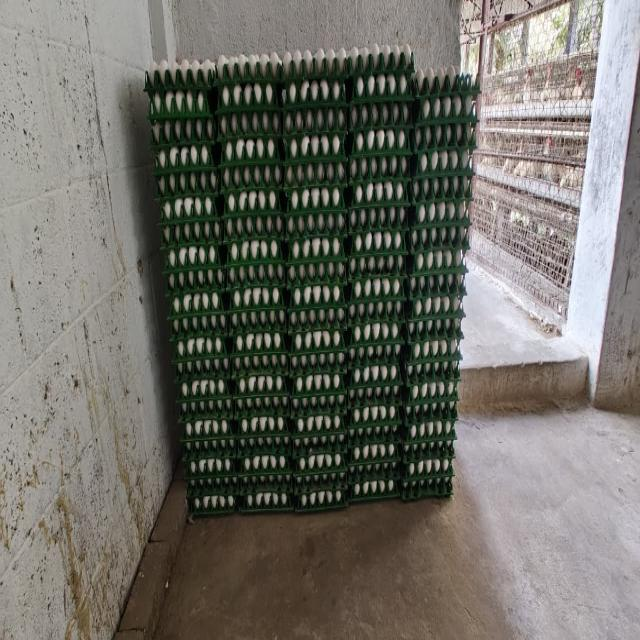egg_tray: (146, 62, 236, 512), (402, 67, 476, 497), (402, 121, 474, 498), (286, 59, 346, 510), (218, 54, 284, 415), (408, 67, 477, 357), (288, 174, 347, 510), (348, 194, 408, 500), (349, 205, 407, 500), (146, 60, 220, 289), (230, 240, 292, 510), (161, 196, 230, 430), (350, 210, 404, 499), (288, 188, 346, 455), (290, 235, 346, 510), (349, 129, 411, 365), (349, 207, 406, 461), (229, 283, 292, 509), (402, 273, 464, 498), (410, 67, 477, 275), (163, 209, 230, 413), (226, 191, 287, 415), (287, 187, 346, 416), (228, 239, 290, 455), (403, 274, 463, 497), (230, 284, 290, 507), (290, 279, 346, 509), (290, 278, 346, 508), (163, 221, 230, 413), (290, 283, 346, 509), (216, 54, 283, 240), (348, 276, 404, 498), (405, 225, 466, 422), (286, 186, 346, 375), (406, 228, 468, 400), (226, 238, 288, 410), (284, 45, 412, 128), (234, 334, 292, 509), (284, 49, 348, 207), (349, 45, 412, 205), (348, 320, 404, 498), (348, 202, 408, 365), (232, 328, 290, 494), (159, 196, 226, 339), (402, 333, 459, 498), (146, 67, 218, 197), (216, 54, 282, 194), (283, 52, 347, 190), (348, 299, 404, 454), (216, 54, 281, 187), (287, 188, 347, 331), (414, 67, 478, 199), (158, 185, 223, 313), (405, 274, 464, 415), (218, 55, 281, 187), (234, 364, 292, 507), (168, 283, 230, 416), (408, 195, 470, 328), (221, 157, 284, 287), (180, 373, 238, 512), (229, 282, 288, 418), (284, 45, 412, 107), (291, 371, 347, 508), (283, 69, 346, 187), (348, 273, 404, 405), (283, 49, 348, 161), (348, 273, 404, 402), (348, 181, 408, 299), (284, 132, 346, 243), (413, 67, 478, 172), (349, 100, 412, 205), (285, 131, 346, 238), (145, 62, 216, 153), (160, 199, 224, 296), (406, 273, 464, 379), (171, 311, 230, 412), (283, 48, 348, 137), (179, 391, 236, 492), (216, 53, 280, 141), (288, 277, 346, 374), (181, 412, 236, 514), (402, 360, 458, 460), (292, 406, 346, 509), (236, 410, 292, 509), (181, 412, 237, 511), (348, 398, 401, 500), (288, 283, 346, 375), (156, 164, 221, 246), (412, 66, 479, 145), (288, 284, 346, 375), (350, 45, 412, 130), (348, 274, 405, 366), (402, 401, 456, 498), (236, 416, 292, 509), (405, 330, 460, 422), (350, 130, 412, 211), (183, 417, 236, 511), (152, 118, 216, 194), (349, 129, 412, 206), (350, 130, 412, 207), (348, 203, 408, 280), (291, 371, 346, 454), (291, 373, 346, 456), (350, 129, 411, 202), (407, 220, 468, 293), (236, 416, 291, 492), (288, 234, 346, 306), (216, 52, 282, 115), (183, 437, 237, 514), (412, 176, 472, 245), (232, 346, 288, 418), (348, 335, 404, 406), (283, 74, 347, 134), (183, 439, 236, 511), (232, 325, 288, 393), (350, 44, 414, 103), (220, 136, 282, 195), (284, 131, 346, 190), (154, 141, 218, 197), (294, 443, 348, 509), (348, 200, 409, 256), (286, 186, 348, 241), (180, 413, 234, 476), (222, 189, 286, 242), (158, 195, 222, 247), (414, 123, 474, 177), (402, 402, 457, 460), (226, 235, 286, 288), (184, 450, 238, 508), (349, 439, 400, 500), (401, 443, 454, 499), (292, 240, 344, 297), (413, 147, 472, 197), (177, 371, 232, 423), (227, 287, 286, 334), (238, 445, 292, 496), (145, 59, 216, 95), (348, 402, 402, 448), (283, 101, 348, 139), (292, 411, 346, 456), (412, 194, 471, 234), (282, 48, 350, 82), (238, 470, 294, 511), (401, 457, 453, 500), (412, 65, 479, 98), (216, 52, 281, 86), (412, 166, 472, 202), (291, 212, 343, 253), (238, 416, 290, 456), (218, 110, 282, 142), (348, 101, 412, 132), (350, 176, 410, 207), (183, 419, 216, 474), (286, 135, 328, 170), (292, 382, 344, 410), (348, 473, 400, 501), (240, 487, 293, 511), (296, 487, 348, 511), (188, 490, 236, 515), (285, 111, 335, 134), (240, 457, 287, 473), (299, 241, 332, 263), (167, 253, 216, 267), (362, 322, 387, 343), (182, 291, 219, 305), (296, 374, 330, 387), (366, 154, 402, 166), (169, 251, 197, 266), (352, 220, 394, 230), (262, 328, 284, 344), (286, 113, 305, 131), (298, 308, 316, 327), (293, 389, 310, 409), (296, 474, 313, 492), (172, 318, 191, 334), (178, 205, 197, 220), (288, 54, 300, 77), (333, 52, 346, 73), (440, 96, 458, 110), (370, 209, 388, 223), (180, 298, 199, 311), (242, 333, 256, 350), (292, 396, 309, 410), (319, 263, 345, 272), (169, 146, 196, 154), (218, 374, 228, 395), (432, 202, 456, 210), (358, 181, 375, 192), (386, 221, 403, 232), (176, 344, 192, 355), (416, 137, 433, 147), (267, 140, 278, 155), (408, 324, 417, 342), (350, 473, 361, 486), (243, 331, 254, 344), (333, 249, 343, 263), (299, 462, 314, 471), (334, 132, 345, 144), (214, 356, 228, 365), (382, 464, 396, 473), (437, 318, 458, 324), (298, 462, 312, 471), (323, 167, 338, 175), (238, 243, 245, 260), (156, 150, 164, 164), (350, 488, 361, 498), (352, 154, 362, 165), (226, 194, 235, 206), (188, 93, 195, 108), (421, 100, 432, 109), (168, 273, 182, 280), (404, 148, 411, 162), (360, 365, 384, 369), (290, 264, 299, 274), (403, 467, 413, 476), (152, 122, 159, 134), (152, 104, 162, 112), (260, 435, 276, 440), (327, 398, 337, 406), (294, 320, 305, 327), (334, 374, 342, 383), (202, 143, 208, 154), (248, 241, 255, 250), (338, 262, 346, 269), (340, 156, 345, 167), (288, 175, 294, 184), (313, 296, 322, 302), (332, 85, 336, 98), (336, 194, 343, 201), (294, 52, 301, 59), (316, 51, 323, 58), (312, 263, 318, 271), (410, 239, 416, 247), (338, 112, 341, 128), (198, 101, 203, 110), (460, 180, 465, 189), (272, 417, 283, 421), (408, 353, 412, 364), (302, 63, 306, 74), (318, 111, 324, 118), (340, 239, 343, 253), (350, 263, 358, 268), (324, 341, 334, 345), (336, 500, 344, 505), (218, 419, 223, 427), (322, 238, 328, 244), (202, 322, 208, 328), (340, 385, 344, 394), (306, 265, 311, 272), (378, 487, 383, 494), (154, 71, 159, 78), (321, 59, 326, 66), (191, 380, 202, 383), (207, 433, 215, 437), (326, 210, 334, 214), (390, 239, 394, 247), (189, 442, 194, 448), (417, 328, 422, 334), (174, 296, 180, 301), (297, 501, 302, 507), (332, 239, 337, 245), (218, 420, 222, 427), (436, 80, 440, 87), (444, 79, 448, 86), (315, 213, 318, 222), (340, 385, 343, 394), (340, 262, 345, 267), (279, 263, 284, 268), (220, 432, 228, 435), (280, 501, 286, 505), (174, 227, 180, 231), (212, 503, 216, 509), (396, 113, 399, 121), (434, 465, 438, 471), (437, 203, 444, 206), (212, 305, 216, 310), (273, 501, 278, 505), (178, 368, 182, 373), (240, 460, 245, 464), (452, 235, 456, 240), (318, 124, 322, 129), (306, 123, 310, 128), (294, 386, 296, 396), (290, 260, 294, 265), (426, 466, 430, 471), (356, 313, 362, 316), (340, 146, 343, 152), (312, 58, 314, 67), (300, 483, 304, 487), (180, 383, 188, 385), (418, 77, 422, 81), (333, 330, 341, 332), (260, 455, 264, 459), (294, 311, 298, 315), (358, 302, 361, 307), (340, 400, 343, 405), (305, 53, 310, 56), (355, 456, 358, 461), (182, 225, 184, 232), (408, 368, 410, 375), (193, 325, 196, 329), (292, 247, 296, 250), (458, 135, 461, 139), (341, 210, 344, 214), (186, 366, 190, 369), (188, 198, 192, 201), (196, 197, 200, 200), (376, 467, 380, 470), (426, 79, 432, 81), (246, 333, 252, 335), (294, 385, 296, 391), (374, 142, 377, 146), (322, 63, 326, 66), (308, 503, 311, 507), (458, 278, 460, 284), (310, 324, 314, 327), (418, 467, 421, 471), (292, 97, 296, 100), (418, 205, 422, 208), (426, 321, 437, 322), (328, 245, 330, 250), (400, 282, 402, 287), (452, 260, 454, 265), (305, 52, 310, 54), (256, 417, 265, 418), (305, 203, 308, 206), (323, 385, 326, 388), (456, 109, 459, 112), (287, 54, 290, 57), (356, 283, 360, 285), (316, 344, 324, 345), (410, 470, 412, 474), (428, 394, 432, 396), (196, 198, 200, 200), (390, 364, 398, 365), (204, 256, 208, 258), (372, 464, 380, 465), (320, 353, 328, 354), (296, 334, 300, 336), (351, 225, 353, 229), (300, 389, 302, 393), (324, 148, 328, 150), (446, 278, 448, 282), (332, 238, 338, 239), (368, 309, 370, 312), (336, 189, 338, 192), (286, 505, 292, 506), (350, 467, 352, 470), (181, 383, 184, 385), (294, 153, 296, 156), (200, 261, 203, 263), (341, 352, 343, 355), (238, 255, 240, 258), (214, 470, 216, 473), (302, 468, 304, 471), (331, 309, 333, 312), (329, 310, 331, 313), (226, 101, 228, 104), (238, 140, 243, 141), (298, 278, 300, 280), (330, 274, 332, 276), (248, 504, 252, 505), (216, 360, 220, 361), (352, 159, 353, 163), (420, 277, 422, 279), (272, 504, 276, 505), (242, 356, 244, 358), (336, 190, 338, 192), (406, 120, 408, 122), (309, 323, 310, 327), (340, 106, 342, 108), (162, 164, 166, 165), (168, 158, 170, 160), (392, 324, 394, 326), (312, 275, 313, 278), (312, 266, 313, 269), (175, 309, 178, 310), (385, 118, 386, 121), (311, 249, 312, 252), (260, 191, 263, 192), (367, 280, 368, 282), (292, 350, 293, 352), (298, 273, 299, 275), (325, 246, 326, 248), (452, 95, 454, 96), (441, 72, 442, 74), (464, 244, 466, 245), (242, 178, 244, 179), (198, 255, 200, 256), (357, 296, 359, 297), (390, 444, 392, 445), (330, 386, 332, 387), (193, 484, 195, 485), (438, 160, 439, 162), (341, 224, 342, 226), (340, 220, 342, 221), (202, 421, 204, 422), (210, 420, 212, 421), (325, 97, 327, 98), (321, 213, 322, 214), (410, 348, 411, 349), (305, 505, 306, 506), (322, 322, 323, 323), (340, 213, 341, 214), (212, 420, 212, 421), (256, 438, 256, 438), (325, 203, 325, 204), (192, 324, 192, 326), (283, 265, 283, 267), (294, 381, 294, 382), (368, 485, 368, 486), (274, 500, 276, 500), (460, 334, 460, 336), (406, 48, 408, 48), (223, 152, 223, 155), (285, 358, 285, 360), (208, 160, 208, 160), (212, 282, 212, 282), (208, 260, 210, 260), (259, 338, 259, 339), (403, 237, 403, 241), (257, 256, 257, 258), (232, 451, 232, 452), (454, 189, 454, 190), (468, 109, 468, 110), (314, 498, 314, 499), (294, 387, 294, 389), (321, 312, 322, 312), (325, 242, 325, 243), (194, 424, 194, 424), (314, 98, 314, 99), (392, 451, 392, 452), (272, 255, 272, 256)
